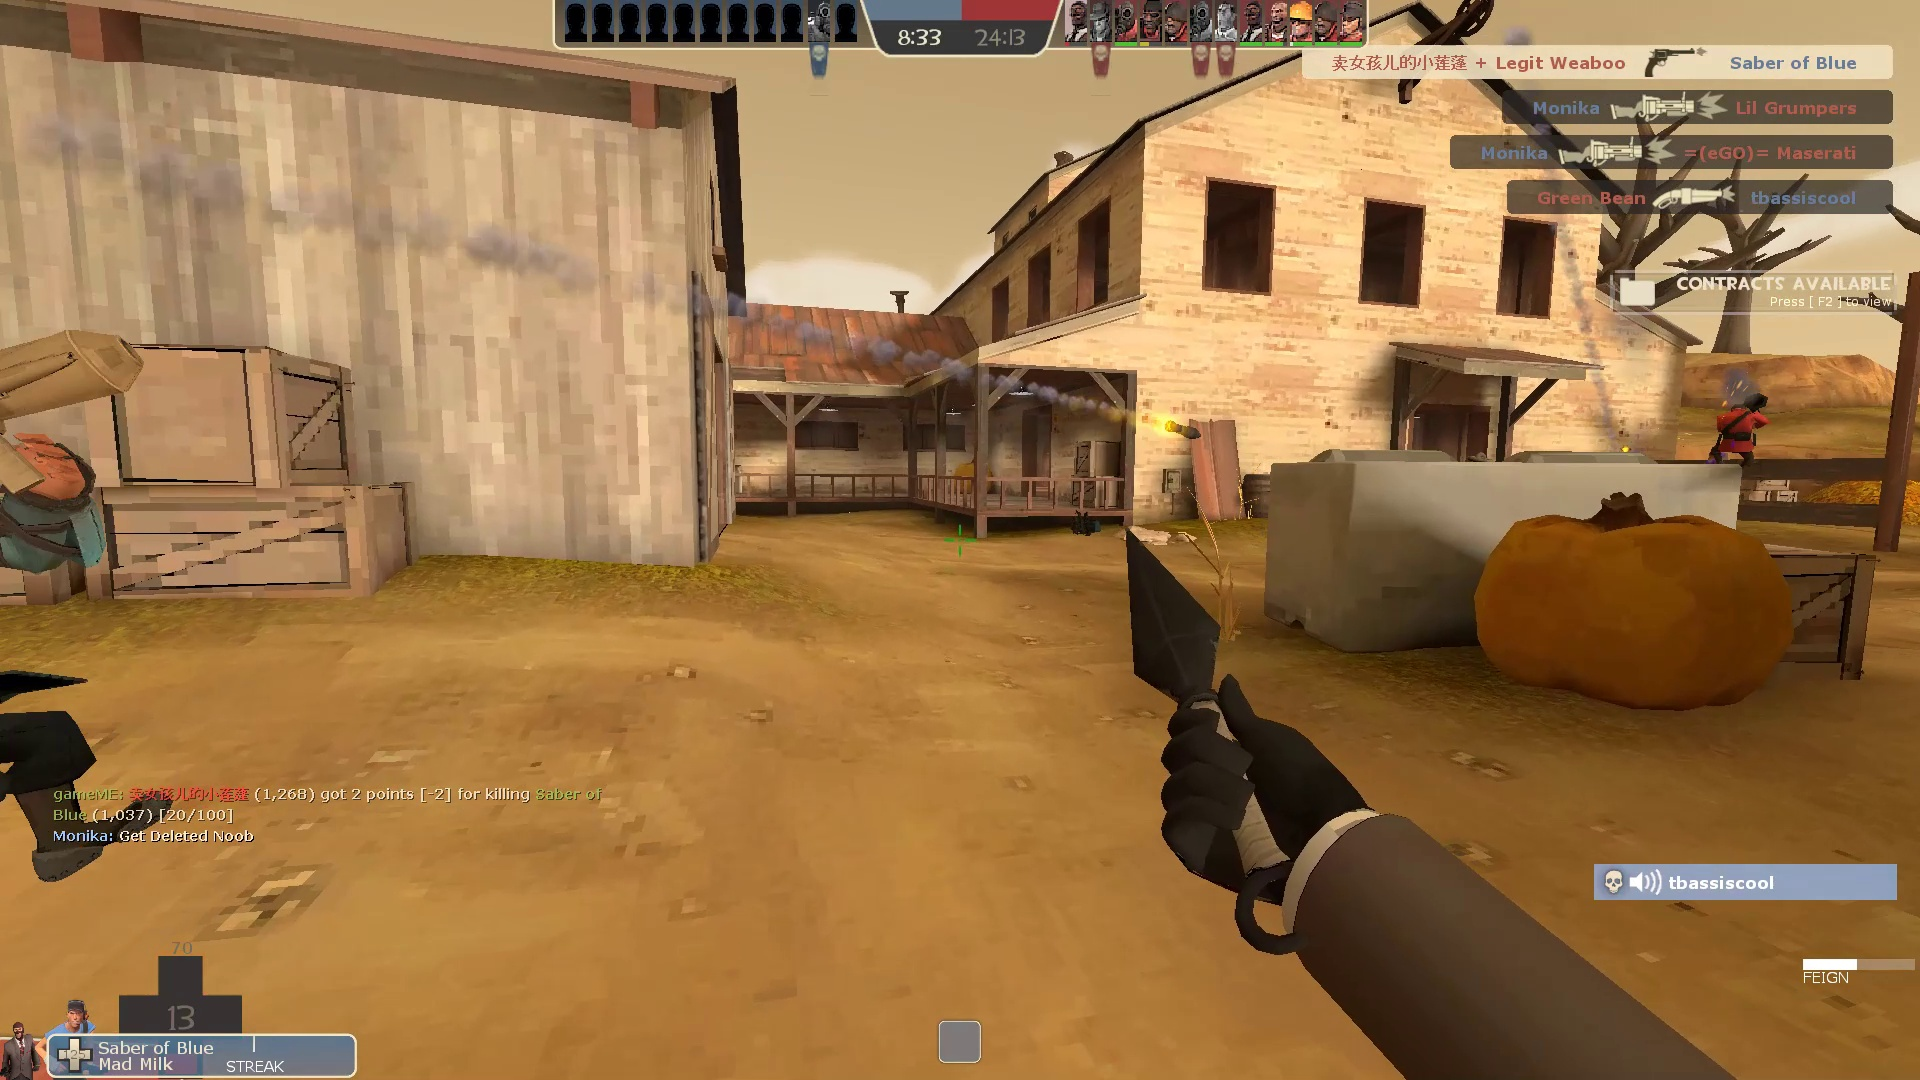blu_soldier: (1, 318, 214, 891)
red_soldier: (1705, 382, 1768, 479)
